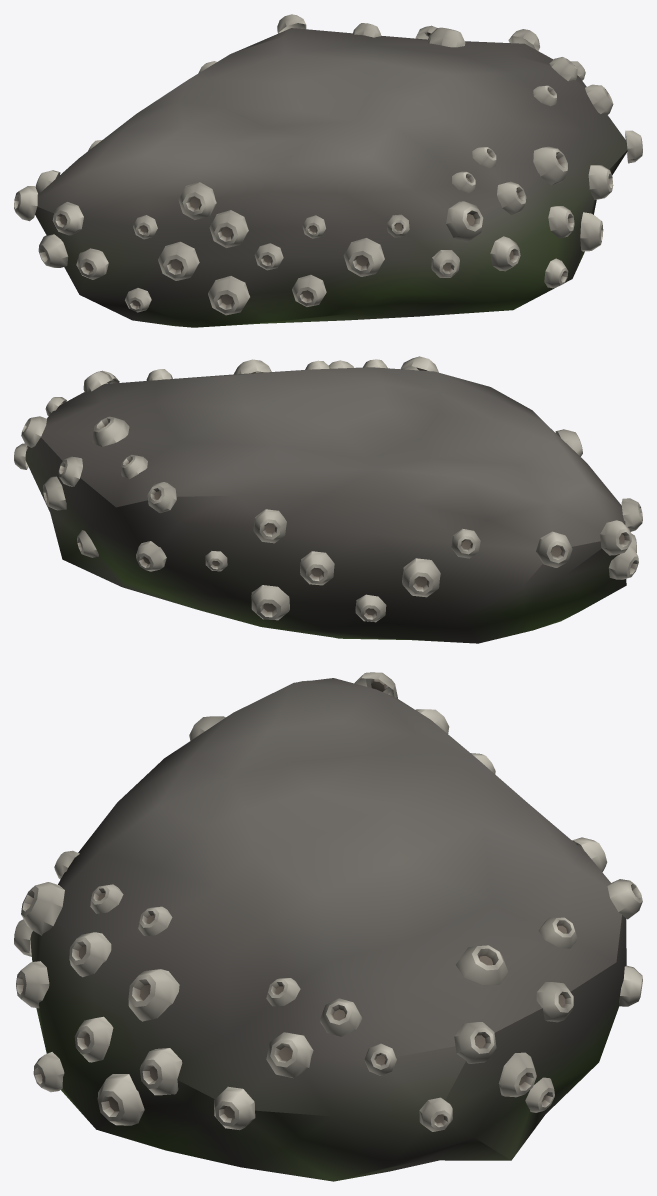
Rendered from Coast_Reef_C.fbx.
The picture shows the model from 3 angles, top to bottom: view 1: azimuth 30°, elevation 25°; view 2: azimuth 150°, elevation 25°; view 3: azimuth 270°, elevation 25°; orthographic projection. The views are drawn at different scales.
Parts seen in each view (by area): view 1: Coast_Reef_C; view 2: Coast_Reef_C; view 3: Coast_Reef_C.
Part boxes in pixels (box(x1,y1,x2,y2)): Coast_Reef_C: box(14, 14, 642, 327); Coast_Reef_C: box(14, 356, 642, 643); Coast_Reef_C: box(14, 672, 642, 1181).
Bounding box in the file's own units: 8.53 × 2.48 × 5.91.
